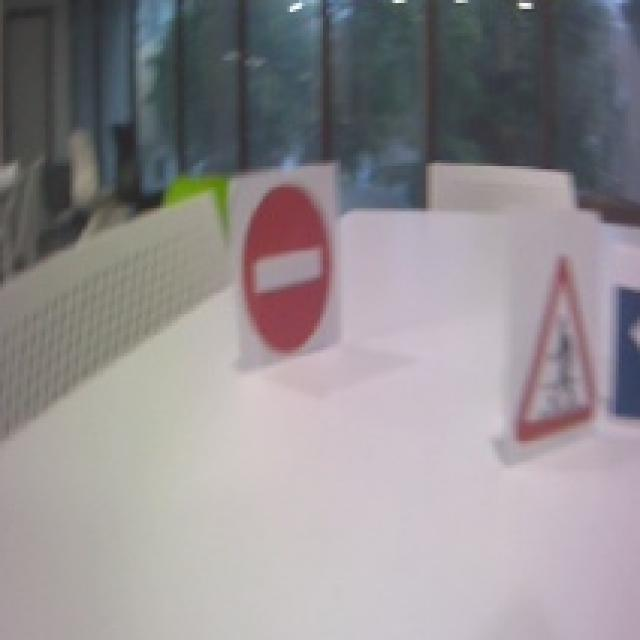DoNotEnterSign: (242, 180, 335, 356)
